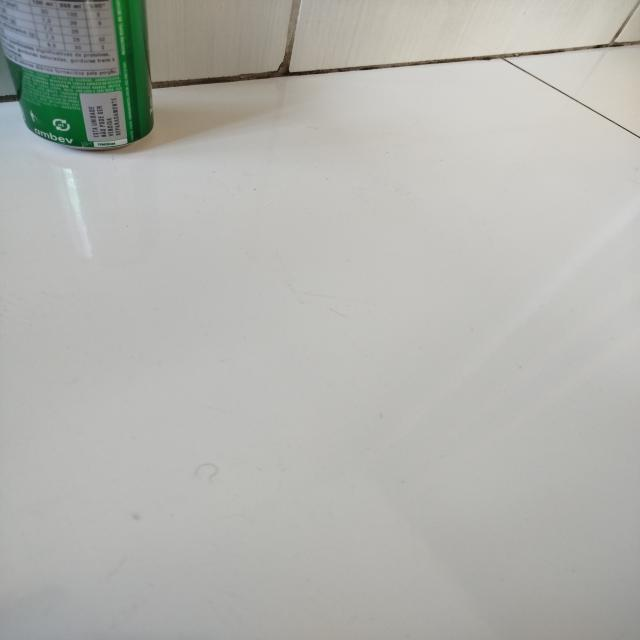Guarana: (0, 0, 153, 150)
